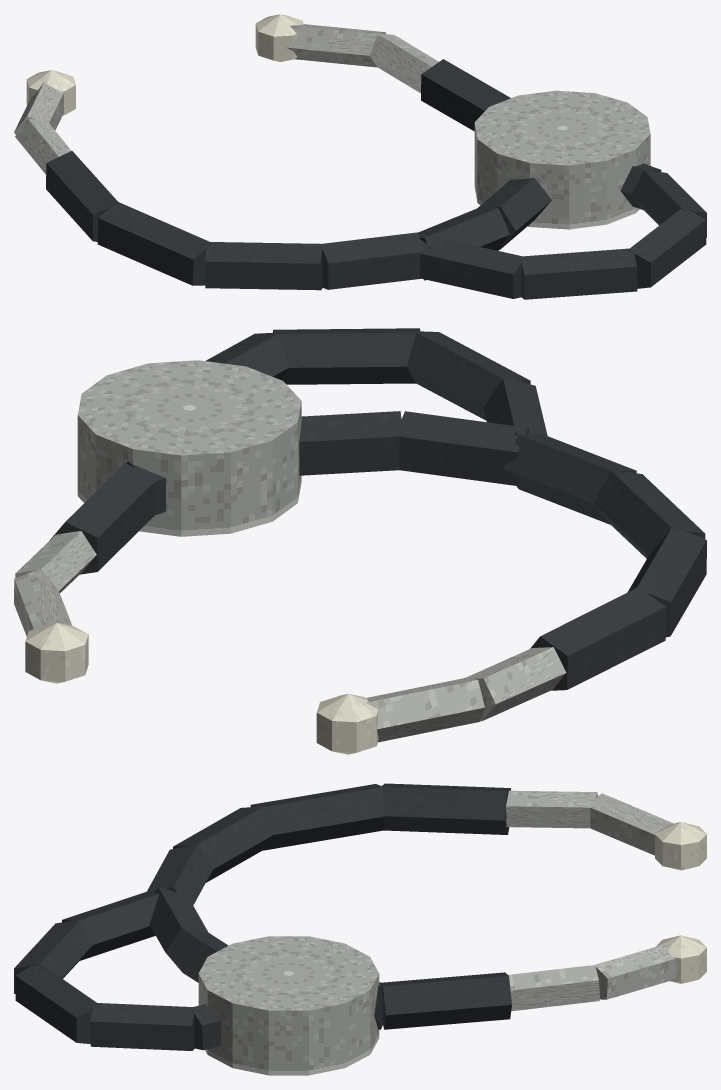
File: stethoscope.glb
The picture shows the model from 3 angles, top to bottom: view 1: azimuth 30°, elevation 25°; view 2: azimuth 150°, elevation 25°; view 3: azimuth 270°, elevation 25°; orthographic projection. The views are drawn at different scales.
Parts seen in each view (by area): view 1: block_chestpiece, block_binaural tubing 2 (×2), block_binaural tubing 3 (×2), block_binaural tubing 0 (×2), block_binaural tubing 1, block_main tube 1, block_main tube 0, block_ear tube 1 (×2), block_ear tube 0 (×2), block_main tube 2, block_ear tip (×2), block_main tube 3 (+1 smaller); view 2: block_chestpiece, block_binaural tubing 3 (×2), block_binaural tubing 0 (×2), block_binaural tubing 2 (×2), block_ear tube 1 (×2), block_main tube 2, block_ear tip (×2), block_ear tube 0 (×2), block_main tube 1, block_binaural tubing 1, block_main tube 0, block_main tube 3; view 3: block_chestpiece, block_binaural tubing 0 (×2), block_ear tube 0 (×2), block_binaural tubing 1, block_ear tube 1 (×2), block_binaural tubing 2 (×2), block_main tube 3, block_binaural tubing 3 (×2), block_main tube 2, block_ear tip (×2), block_main tube 0, block_main tube 1 (+1 smaller).
Boxes of the visible parts, x1=… form: block_chestpiece: x1=474, y1=90, x2=650, y2=229; block_binaural tubing 2 (×2): x1=204, y1=177, x2=551, y2=290; block_binaural tubing 3 (×2): x1=320, y1=207, x2=510, y2=289; block_binaural tubing 0 (×2): x1=46, y1=59, x2=510, y2=241; block_binaural tubing 1: x1=97, y1=202, x2=212, y2=285; block_main tube 1: x1=520, y1=248, x2=637, y2=299; block_main tube 0: x1=420, y1=234, x2=524, y2=298; block_ear tube 1 (×2): x1=14, y1=24, x2=386, y2=134; block_ear tube 0 (×2): x1=15, y1=34, x2=438, y2=174; block_main tube 2: x1=627, y1=207, x2=706, y2=288; block_ear tip (×2): x1=26, y1=14, x2=303, y2=115; block_main tube 3: x1=631, y1=169, x2=706, y2=237; block_chestpiece: x1=77, y1=360, x2=301, y2=536; block_binaural tubing 3 (×2): x1=399, y1=411, x2=636, y2=524; block_binaural tubing 0 (×2): x1=50, y1=463, x2=666, y2=690; block_binaural tubing 2 (×2): x1=299, y1=411, x2=705, y2=558; block_ear tube 1 (×2): x1=14, y1=569, x2=484, y2=742; block_main tube 2: x1=273, y1=328, x2=420, y2=384; block_ear tip (×2): x1=25, y1=622, x2=378, y2=754; block_ear tube 0 (×2): x1=15, y1=531, x2=566, y2=720; block_main tube 1: x1=407, y1=331, x2=530, y2=420; block_binaural tubing 1: x1=627, y1=526, x2=706, y2=637; block_main tube 0: x1=483, y1=377, x2=547, y2=435; block_main tube 3: x1=206, y1=332, x2=288, y2=379; block_chestpiece: x1=198, y1=936, x2=379, y2=1075; block_binaural tubing 0 (×2): x1=381, y1=783, x2=511, y2=1029; block_ear tube 0 (×2): x1=506, y1=790, x2=600, y2=1011; block_binaural tubing 1: x1=250, y1=784, x2=384, y2=850; block_ear tube 1 (×2): x1=590, y1=793, x2=675, y2=999; block_binaural tubing 2 (×2): x1=169, y1=806, x2=272, y2=982; block_main tube 3: x1=90, y1=1002, x2=194, y2=1050; block_binaural tubing 3 (×2): x1=146, y1=844, x2=212, y2=970; block_main tube 2: x1=15, y1=962, x2=99, y2=1043; block_ear tip (×2): x1=655, y1=822, x2=706, y2=983; block_main tube 0: x1=62, y1=890, x2=169, y2=960; block_main tube 1: x1=14, y1=919, x2=92, y2=993.
Size of the model in its own units: 0.0995 by 0.0122 by 0.1184.
Materials: 1 (1 with a texture image).
